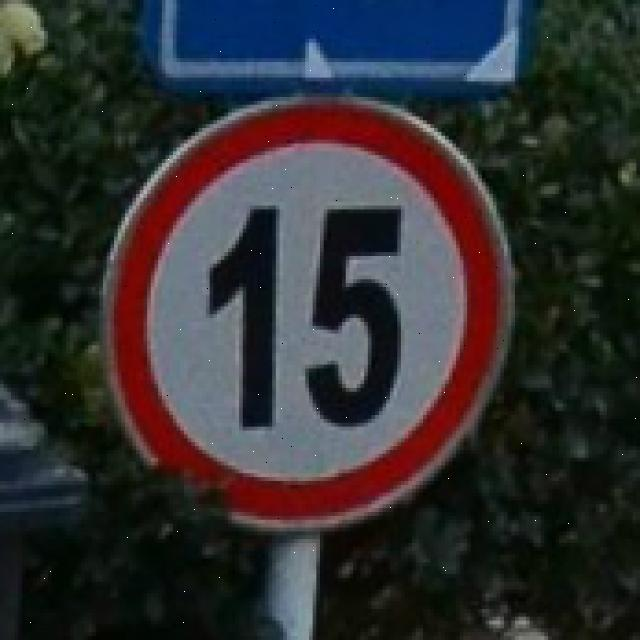speed limit 20: (101, 95, 514, 537)
